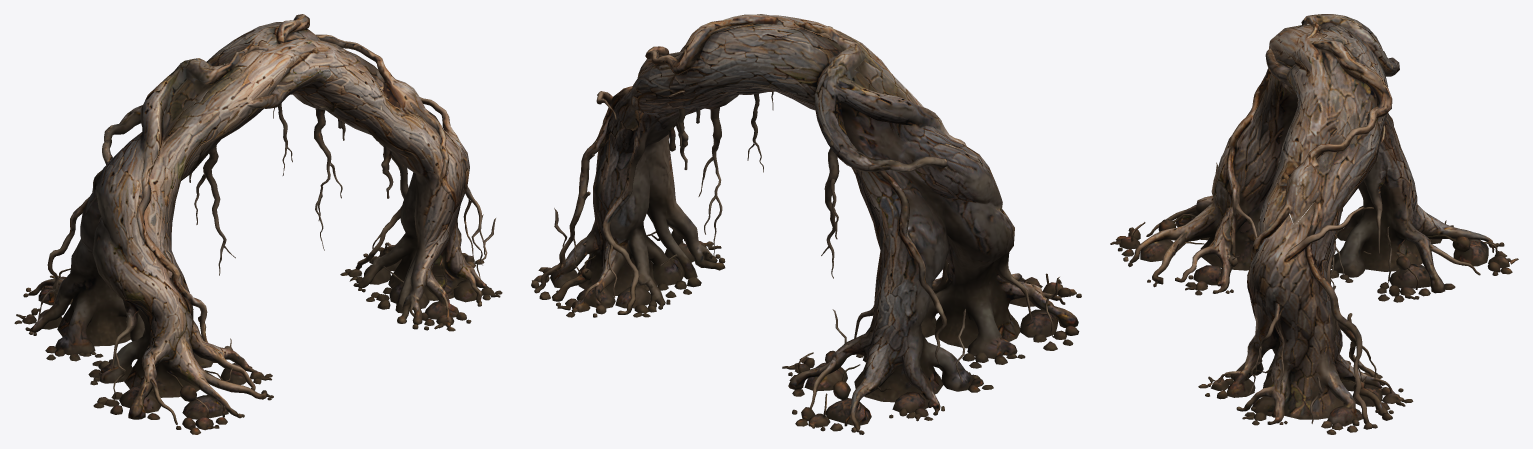
The model's file is act1_kit_v1_root_rib_arch.glb.
The picture shows the model from 3 angles, left to right: view 1: azimuth 30°, elevation 25°; view 2: azimuth 150°, elevation 25°; view 3: azimuth 270°, elevation 25°; orthographic projection. The views are drawn at different scales.
Parts seen in each view (by area): view 1: act1_kit_v1_root_rib_arch; view 2: act1_kit_v1_root_rib_arch; view 3: act1_kit_v1_root_rib_arch.
Part boxes in pixels (<box>): act1_kit_v1_root_rib_arch: <box>14,14,502,434</box>; act1_kit_v1_root_rib_arch: <box>531,14,1081,434</box>; act1_kit_v1_root_rib_arch: <box>1110,14,1518,434</box>.
Size of the model in its own units: 1 by 0.6225 by 0.7754.
1 material, 1 textured.
